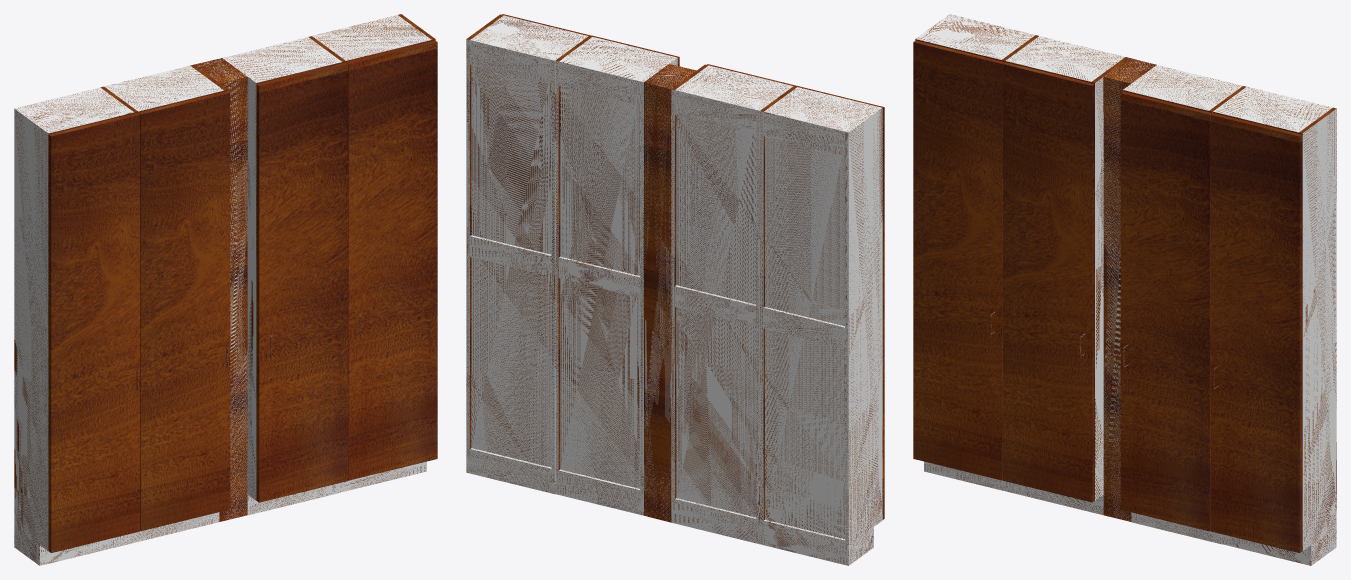
3 renders of one model, left to right at view 1: azimuth 30°, elevation 25°; view 2: azimuth 150°, elevation 25°; view 3: azimuth 330°, elevation 25°, orthographic.
Parts seen in each view (by area): view 1: mesh30_mesh30-geometry, mesh17_mesh17-geometry, mesh13_mesh13-geometry, mesh4_mesh4-geometry, mesh35_mesh35-geometry, mesh16_mesh16-geometry, mesh28_mesh28-geometry, mesh24_mesh24-geometry; view 2: mesh7_mesh7-geometry, mesh13_mesh13-geometry, mesh35_mesh35-geometry, mesh4_mesh4-geometry, mesh16_mesh16-geometry, mesh12_mesh12-geometry, mesh8_mesh8-geometry, mesh26_mesh26-geometry, mesh28_mesh28-geometry, mesh10_mesh10-geometry, mesh22_mesh22-geometry, mesh2_mesh2-geometry (+3 smaller); view 3: mesh17_mesh17-geometry, mesh30_mesh30-geometry, mesh9_mesh9-geometry, mesh4_mesh4-geometry, mesh35_mesh35-geometry, mesh16_mesh16-geometry, mesh26_mesh26-geometry, mesh10_mesh10-geometry.
Boxes of the visible parts, x1,y1,x2,y2 form: mesh30_mesh30-geometry: (48, 91, 230, 552); mesh17_mesh17-geometry: (256, 40, 437, 502); mesh13_mesh13-geometry: (14, 77, 256, 550); mesh4_mesh4-geometry: (18, 15, 431, 133); mesh35_mesh35-geometry: (194, 58, 247, 521); mesh16_mesh16-geometry: (14, 461, 426, 565); mesh28_mesh28-geometry: (14, 85, 141, 550); mesh24_mesh24-geometry: (222, 57, 259, 500); mesh7_mesh7-geometry: (471, 65, 844, 538); mesh13_mesh13-geometry: (555, 58, 882, 544); mesh35_mesh35-geometry: (644, 64, 696, 522); mesh4_mesh4-geometry: (470, 15, 878, 135); mesh16_mesh16-geometry: (466, 452, 873, 565); mesh12_mesh12-geometry: (470, 235, 844, 348); mesh8_mesh8-geometry: (470, 44, 844, 155); mesh26_mesh26-geometry: (671, 64, 796, 524); mesh28_mesh28-geometry: (756, 85, 881, 545); mesh10_mesh10-geometry: (466, 14, 503, 452); mesh22_mesh22-geometry: (555, 36, 592, 474); mesh2_mesh2-geometry: (470, 448, 844, 544); mesh17_mesh17-geometry: (1120, 91, 1302, 552); mesh30_mesh30-geometry: (913, 40, 1094, 502); mesh9_mesh9-geometry: (1095, 77, 1336, 550); mesh4_mesh4-geometry: (919, 15, 1332, 133); mesh35_mesh35-geometry: (1103, 58, 1156, 521); mesh16_mesh16-geometry: (924, 461, 1336, 565); mesh26_mesh26-geometry: (1001, 35, 1128, 500); mesh10_mesh10-geometry: (1298, 107, 1336, 550).
Bounding box in the file's own units: 0.6731 × 0.7289 × 0.1256.
